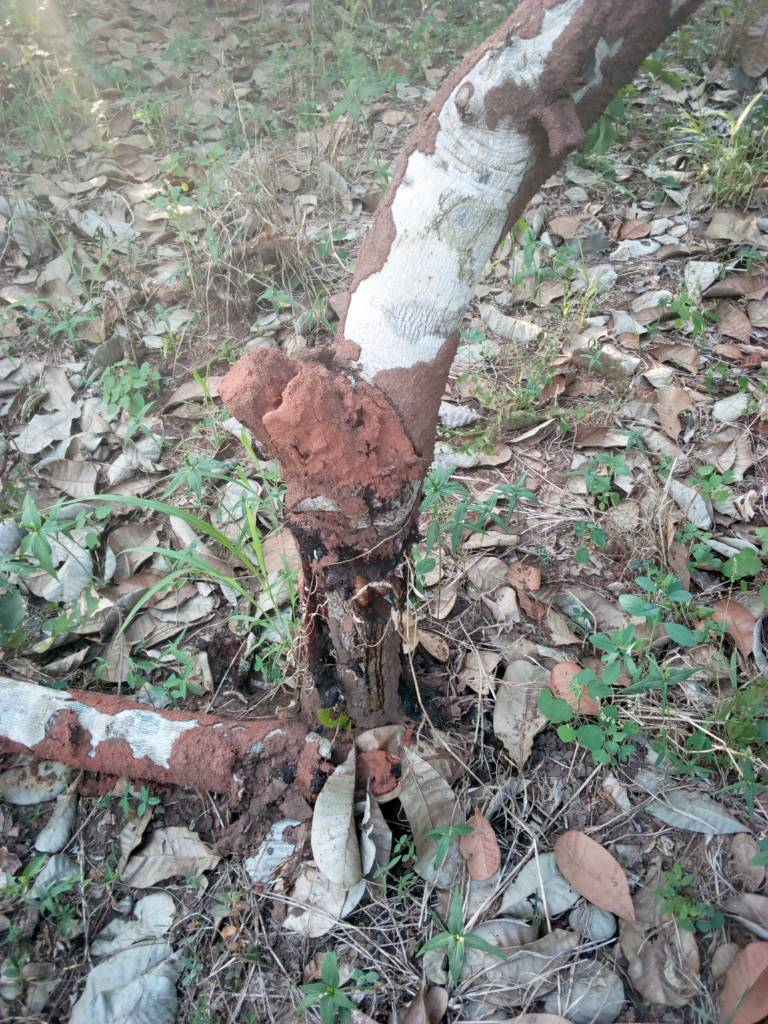Termites: (229, 324, 427, 511), (75, 697, 293, 789), (522, 2, 665, 141), (354, 175, 402, 292)
